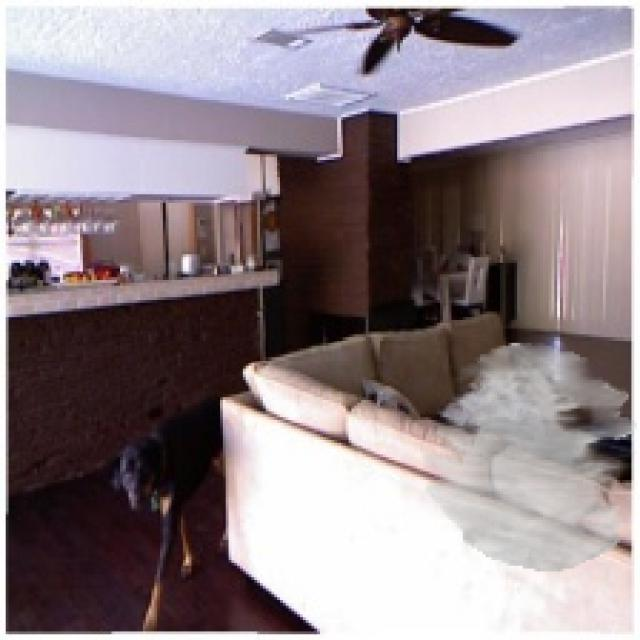smoke: (423, 343, 637, 571)
